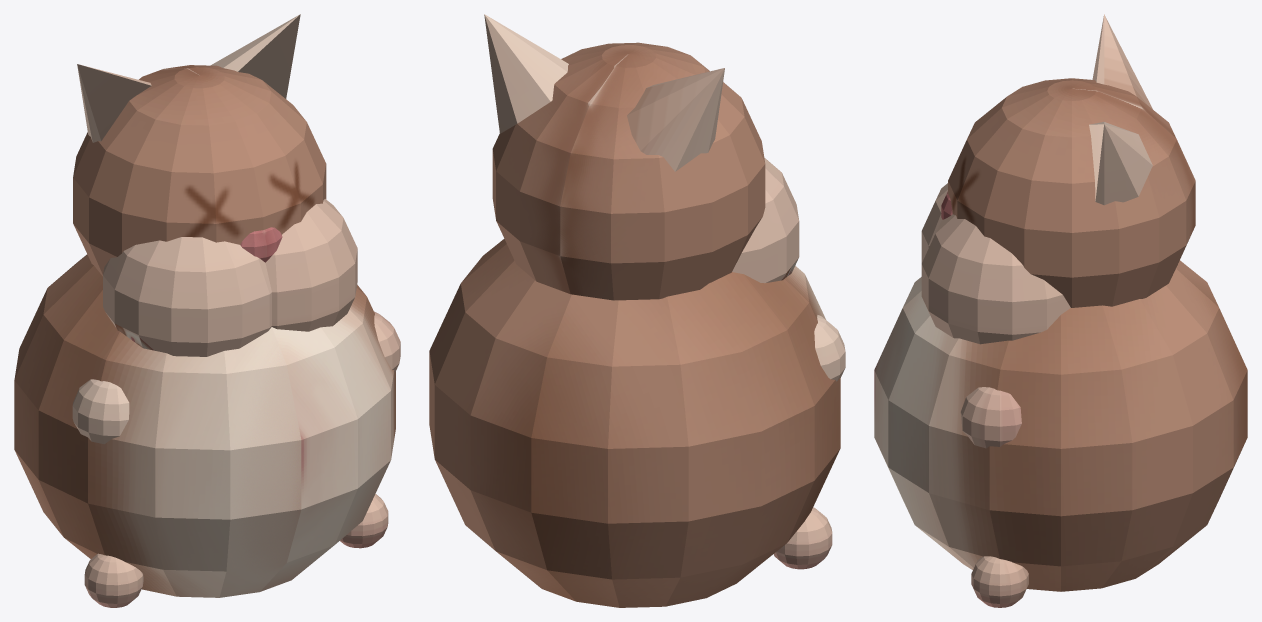
File: Hamster.gltf
3 views of the same model, side by side, from view 1: azimuth 30°, elevation 25°; view 2: azimuth 150°, elevation 25°; view 3: azimuth 270°, elevation 25° (orthographic). The views are drawn at different scales.
Visible parts, largest first — view 1: Cachetes, pies y manos; view 2: Cachetes, pies y manos; view 3: Cachetes, pies y manos.
Part boxes in pixels (<box>): Cachetes, pies y manos: <box>14,14,400,607</box>; Cachetes, pies y manos: <box>429,14,845,607</box>; Cachetes, pies y manos: <box>874,14,1247,607</box>.
Size of the model in its own units: 1.96 by 2.97 by 1.96.
1 material, 1 textured.
